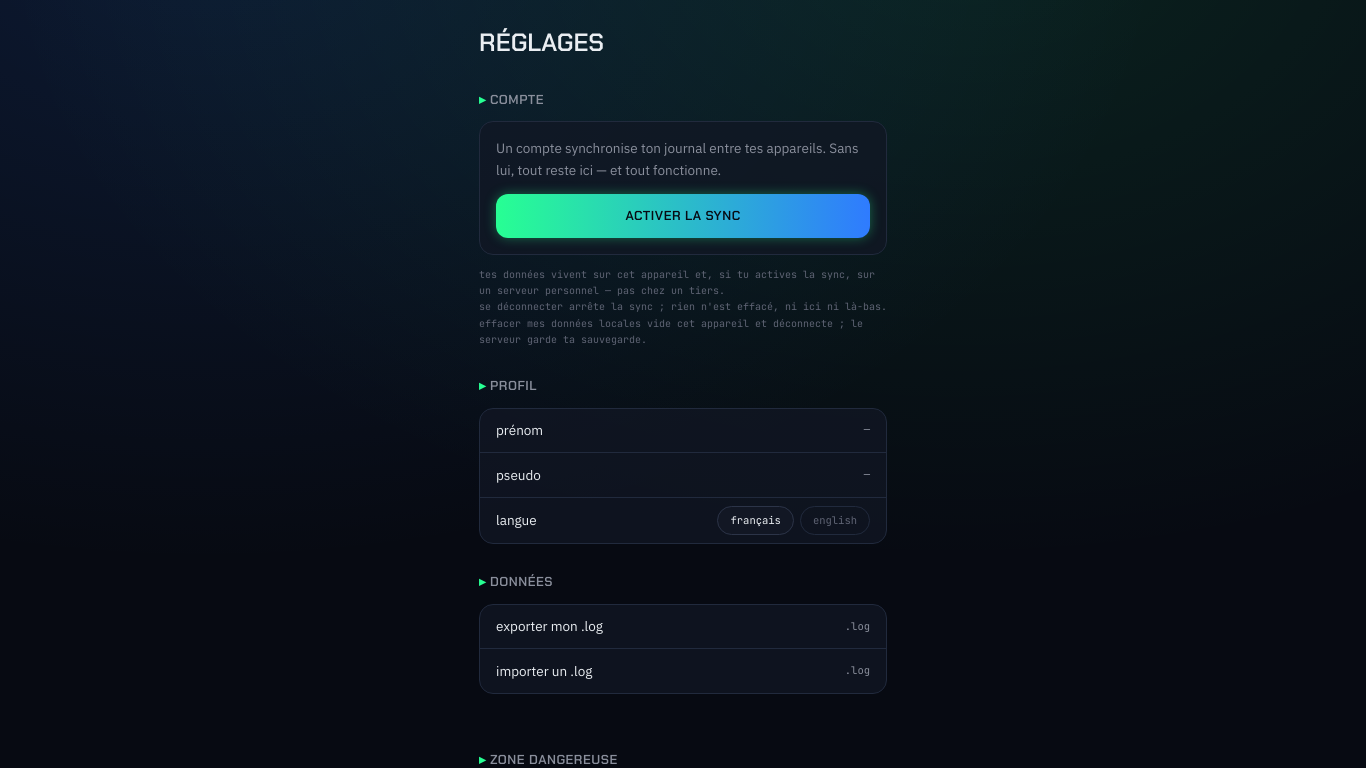
Scenario: rangée pseudo › explique sans session au lieu de disparaitre
The image size is (1366, 768).
Check: the text "demande un compte" is not shown
Click the button "pseudo —" at (518,474), box [480, 453, 886, 497]
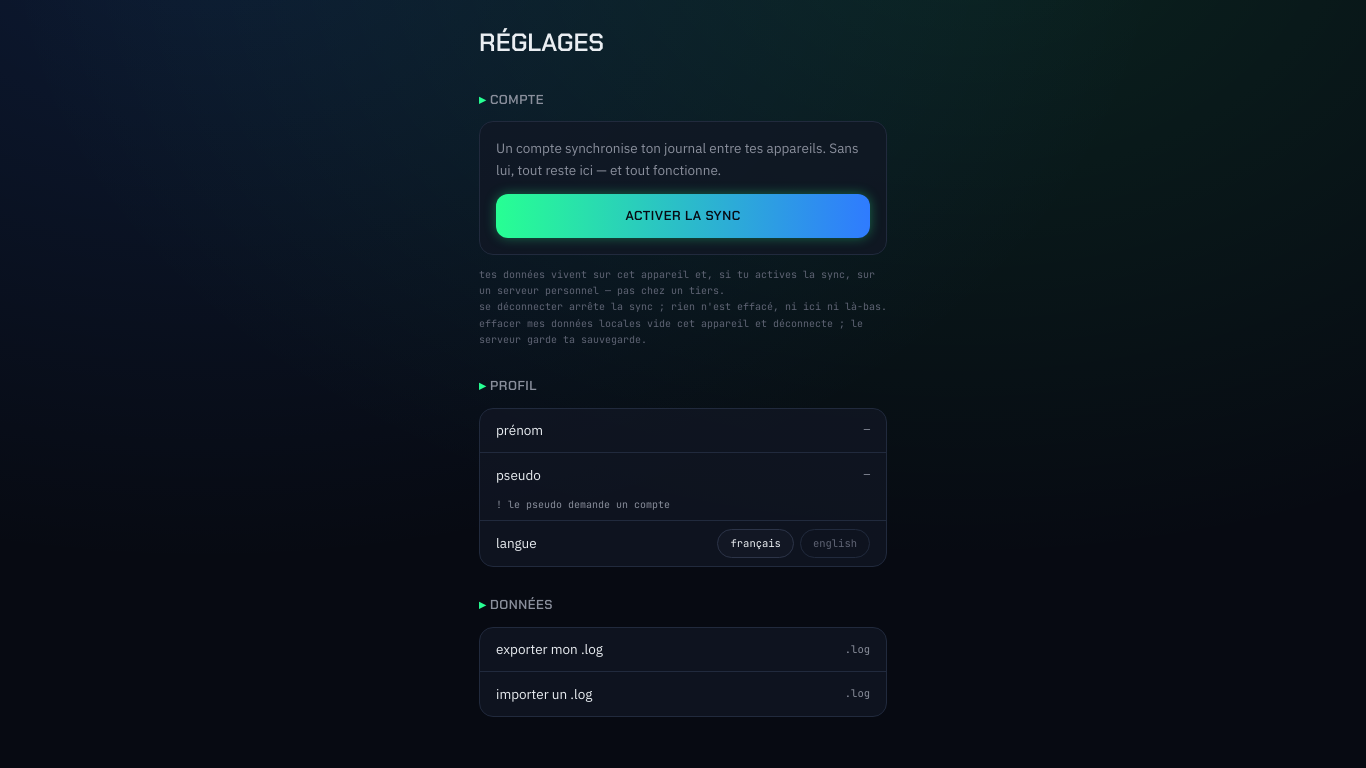
Check: the text "! le pseudo demande un compte" is shown, box [496, 498, 670, 511]
